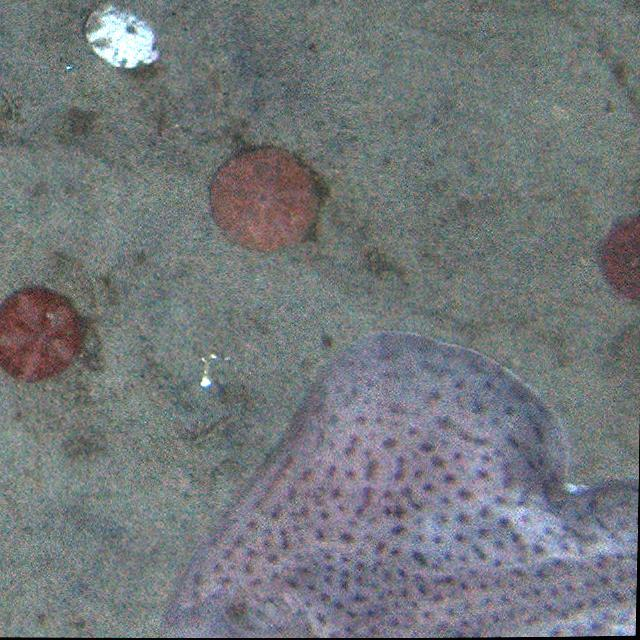skate: (170, 323, 636, 638)
